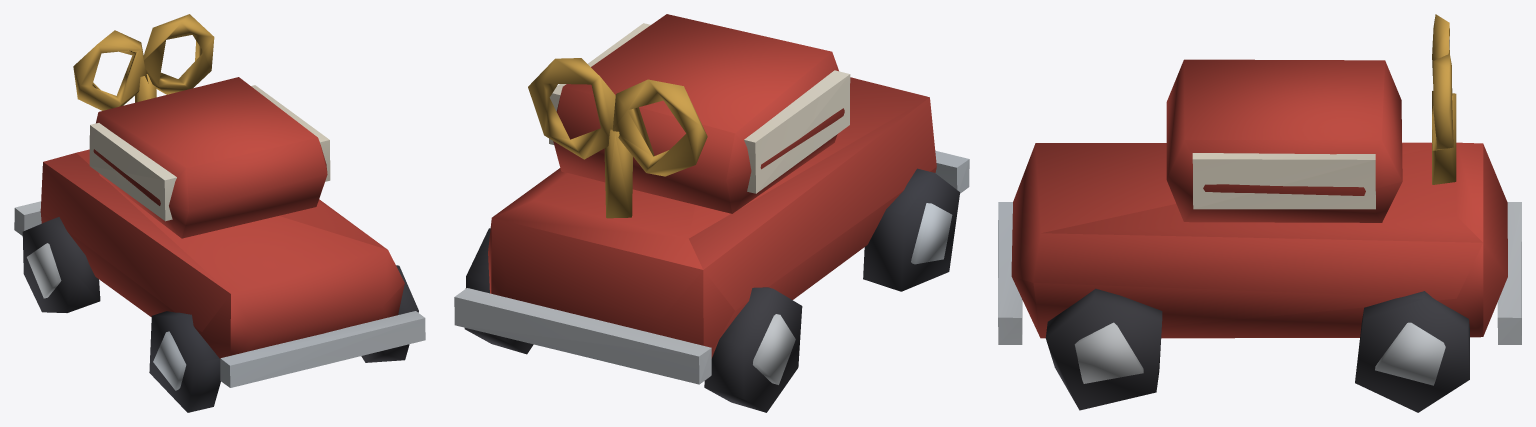
The model's file is den_windup_car_lod2.glb.
3 views of the same model, side by side, from view 1: azimuth 30°, elevation 25°; view 2: azimuth 150°, elevation 25°; view 3: azimuth 270°, elevation 25° (orthographic). The views are drawn at different scales.
Visible parts, largest first — view 1: den_windup_car.001; view 2: den_windup_car.001; view 3: den_windup_car.001.
Part boxes in pixels (x1,y1,x2,y2): den_windup_car.001: (14,14,425,412); den_windup_car.001: (454,14,969,412); den_windup_car.001: (998,14,1521,412).
Bounding box in the file's own units: 2.64 × 2.79 × 4.3.
